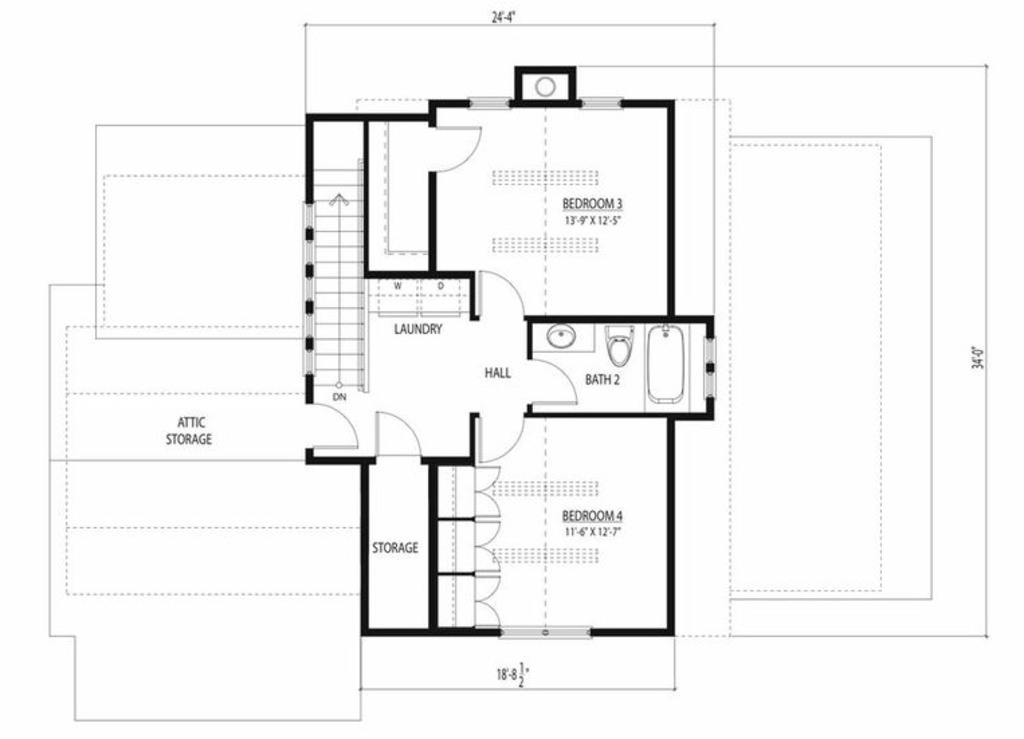door: (526, 354, 580, 408), (475, 413, 526, 465), (308, 399, 359, 450), (475, 268, 525, 318), (433, 125, 483, 174), (372, 411, 419, 458), (475, 518, 504, 573), (473, 573, 502, 628), (479, 465, 503, 517)
large_sink: (601, 322, 636, 369)
small_sink: (536, 322, 588, 351)
stairs: (310, 119, 366, 396)
tub: (640, 324, 693, 413)
windows: (500, 623, 594, 640), (581, 94, 632, 112), (465, 95, 511, 113), (705, 338, 717, 401)
